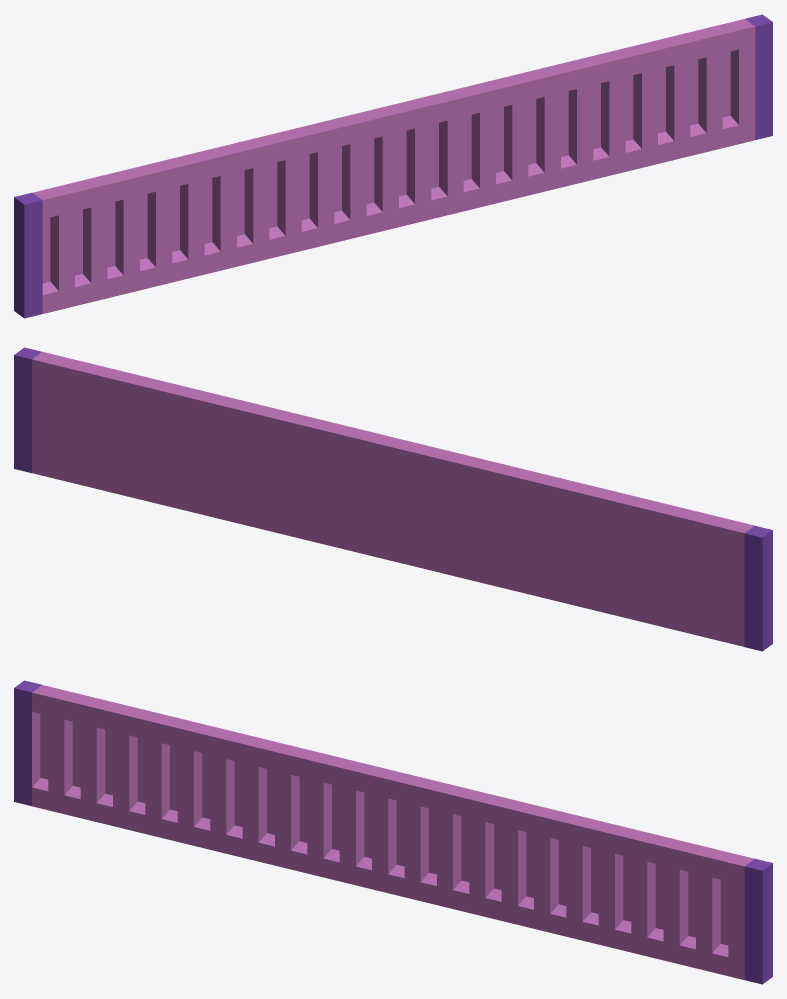
Rendered from side_Wall.fbx.
3 renders of one model, top to bottom at view 1: azimuth 30°, elevation 25°; view 2: azimuth 150°, elevation 25°; view 3: azimuth 330°, elevation 25°, orthographic.
Visible parts, largest first — view 1: pPlane9, pCube31, pCube32; view 2: pPlane9, pCube31, pCube32; view 3: pPlane9, pCube32, pCube31.
Part boxes in pixels (<box>): pPlane9: <box>32,19,755,313</box>; pCube31: <box>14,192,42,318</box>; pCube32: <box>745,14,772,139</box>; pPlane9: <box>32,352,754,646</box>; pCube31: <box>744,525,772,651</box>; pCube32: <box>14,347,41,473</box>; pPlane9: <box>32,685,754,979</box>; pCube32: <box>744,858,772,984</box>; pCube31: <box>14,680,41,806</box>.
Size of the model in its own units: 20.65 by 3 by 0.5042.
